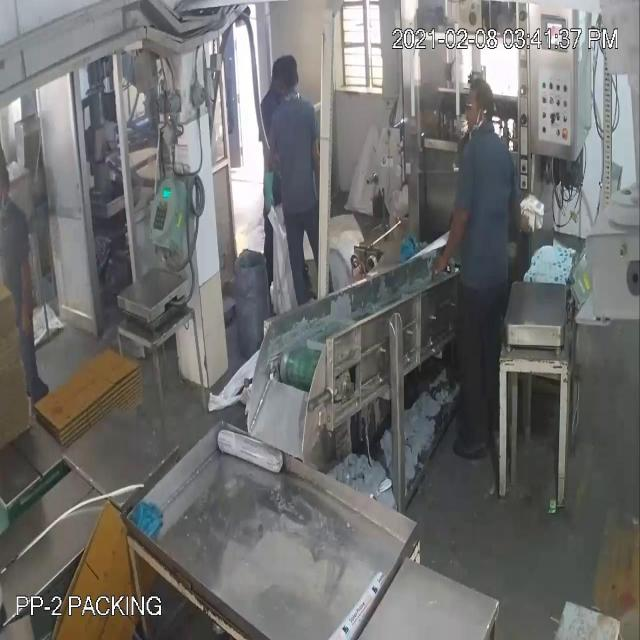No_Gloves: (429, 184, 474, 281)
